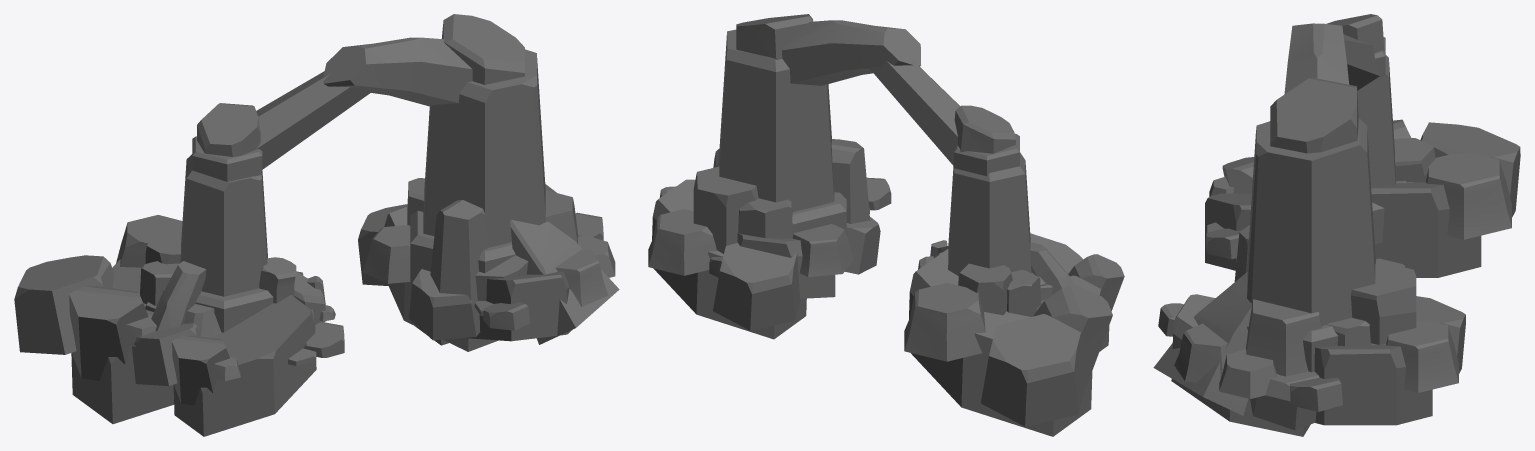
Rendered from Zone3_Arch.fbx.
3 renders of one model, left to right at view 1: azimuth 30°, elevation 25°; view 2: azimuth 150°, elevation 25°; view 3: azimuth 270°, elevation 25°, orthographic. The views are drawn at different scales.
Visible parts, largest first — view 1: rock_medium_50, rock_medium_47, rock5020, rock_medium_46, rock5019, rock5024, rock_medium_42, rock_medium_45, rock5025, rock5026, rock_large_21, rock5027 (+8 smaller); view 2: rock_medium_50, rock5020, rock_medium_43, rock5019, rock5024, rock_medium_45, rock_medium_48, rock5025, rock_medium_44, rock_medium_47, rock_medium_46, rock5027 (+5 smaller); view 3: rock5020, rock_medium_50, rock_medium_43, rock_medium_49, rock_medium_42, rock5026, rock_medium_46, rock_medium_48, rock_medium_47, rock5024, rock5019, rock_medium_44 (+4 smaller).
Part boxes in pixels (x1,y1,x2,y2): rock_medium_50: (14,215,303,424); rock_medium_47: (132,295,344,436); rock5020: (423,49,545,247); rock_medium_46: (430,200,619,344); rock5019: (180,154,267,296); rock5024: (323,37,472,106); rock_medium_42: (466,249,608,341); rock_medium_45: (363,207,498,351); rock5025: (256,71,373,169); rock5026: (441,14,524,84); rock_large_21: (145,261,221,338); rock5027: (197,103,260,156); rock_medium_50: (904,249,1112,436); rock5020: (718,29,834,212); rock_medium_43: (648,179,806,339); rock5019: (948,152,1031,276); rock5024: (782,20,921,85); rock_medium_45: (709,217,880,298); rock_medium_48: (693,166,792,253); rock5025: (869,59,960,165); rock_medium_44: (958,263,1041,316); rock_medium_47: (1030,233,1124,351); rock_medium_46: (831,139,870,223); rock5027: (954,105,1015,153); rock5020: (1247,118,1375,325); rock_medium_50: (1371,119,1520,277); rock_medium_43: (1289,296,1465,425); rock_medium_49: (1219,299,1321,401); rock_medium_42: (1158,294,1316,436); rock5026: (1270,78,1358,153); rock_medium_46: (1153,225,1251,415); rock_medium_48: (1326,258,1416,346); rock_medium_47: (1205,157,1254,270); rock5024: (1284,23,1349,94); rock5019: (1357,55,1395,187); rock_medium_44: (1394,138,1435,182).
Size of the model in its own units: 26337 by 16261 by 15309.
